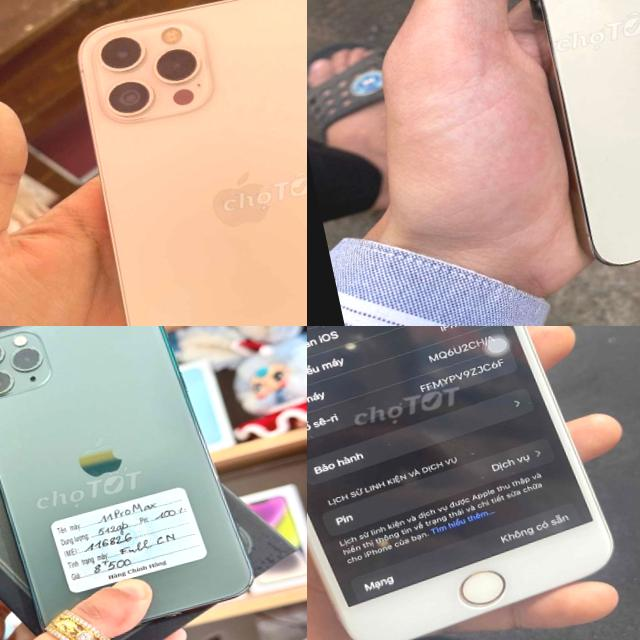gen_11: (0, 326, 265, 640)
gen_12_13: (46, 0, 307, 326)
gen_14: (470, 0, 640, 277)
gen_7_8: (307, 326, 632, 640)
